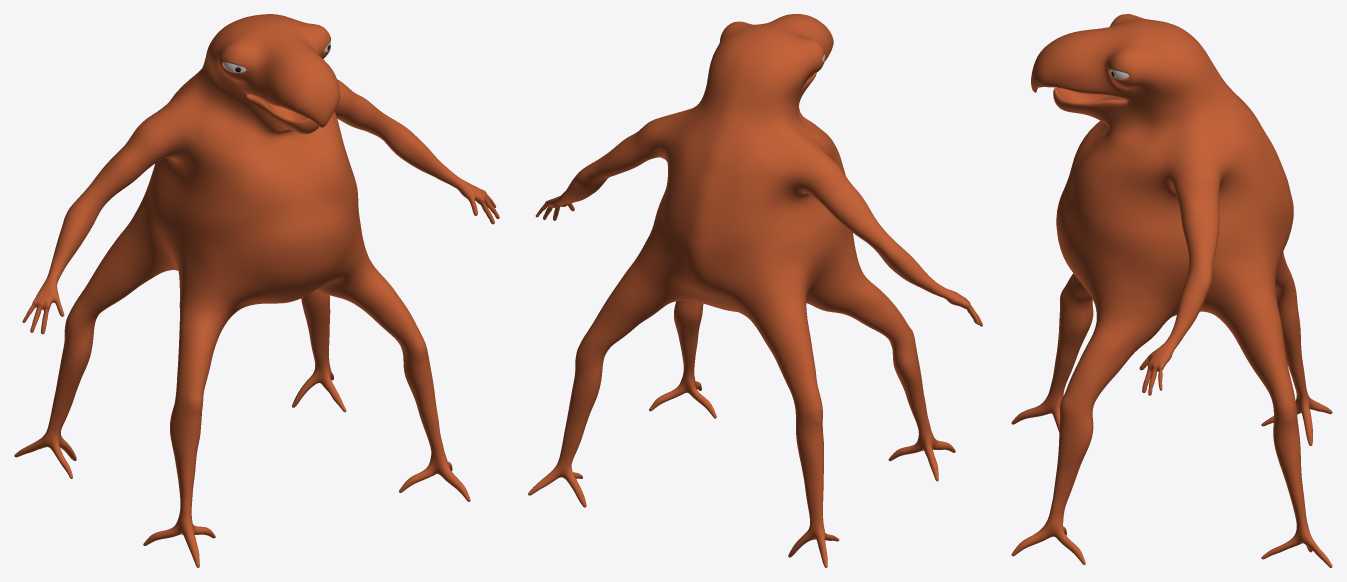
File: Berg.glb
3 views of the same model, side by side, from view 1: azimuth 30°, elevation 25°; view 2: azimuth 150°, elevation 25°; view 3: azimuth 270°, elevation 25° (orthographic). The views are drawn at different scales.
Visible parts, largest first — view 1: Berg; view 2: Berg; view 3: Berg.
Part boxes in pixels (x1=…): Berg: x1=14, y1=14, x2=499, y2=567; Berg: x1=528, y1=14, x2=982, y2=567; Berg: x1=1011, y1=14, x2=1332, y2=567.
Bounding box in the file's own units: 8.02 × 7.67 × 4.72.
